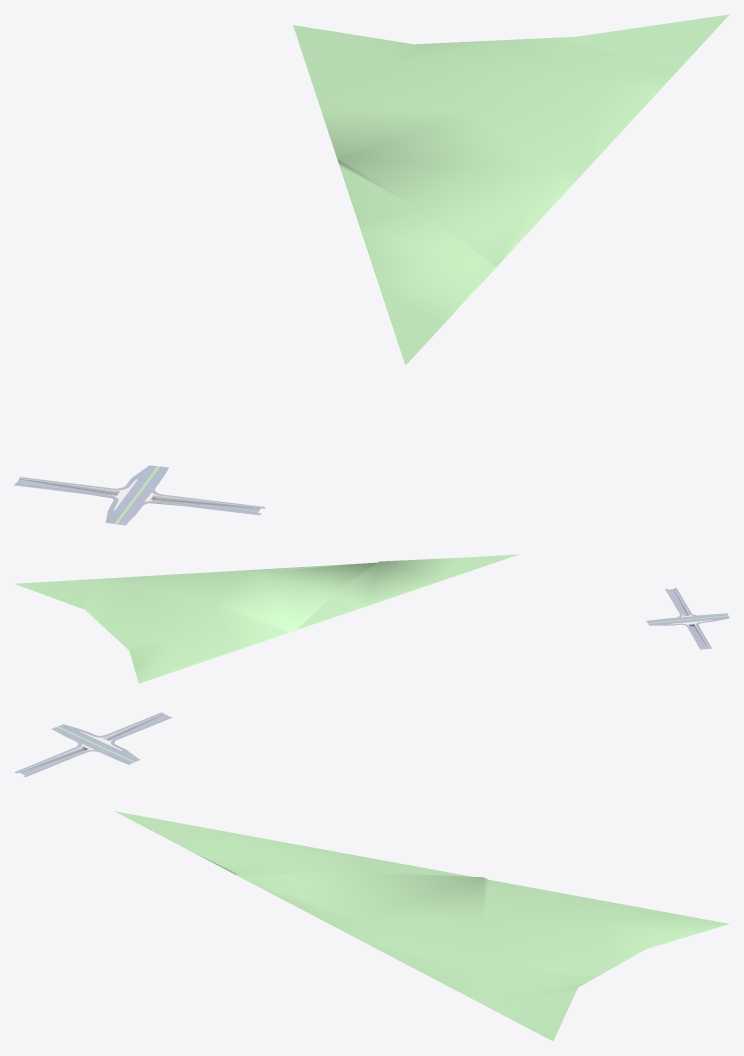
File: Al-Seifullin.glb
The picture shows the model from 3 angles, top to bottom: view 1: azimuth 30°, elevation 25°; view 2: azimuth 150°, elevation 25°; view 3: azimuth 270°, elevation 25°; orthographic projection. The views are drawn at different scales.
Parts seen in each view (by area): view 1: group_9, group_1.001, group_1, group_4; view 2: group_9, group_1.001, group_1, group_2; view 3: group_9, group_1.001, group_1.
Boxes of the visible parts, x1,y1,x2,y2 form: group_9: (293, 14, 729, 365); group_1.001: (14, 465, 156, 523); group_1: (117, 466, 265, 525); group_4: (16, 478, 260, 512); group_9: (14, 554, 518, 683); group_1.001: (648, 616, 729, 649); group_1: (646, 587, 727, 622); group_2: (668, 589, 708, 649); group_9: (115, 811, 728, 1041); group_1.001: (58, 712, 172, 761); group_1: (14, 727, 133, 777).
Bounding box in the file's own units: 2091 × 141 × 1689.
Materials: 4 (2 with a texture image).
